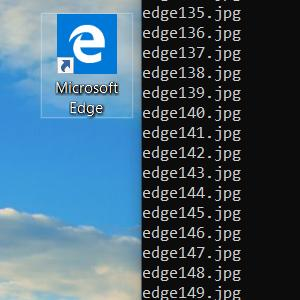edge: (57, 14, 117, 74)
